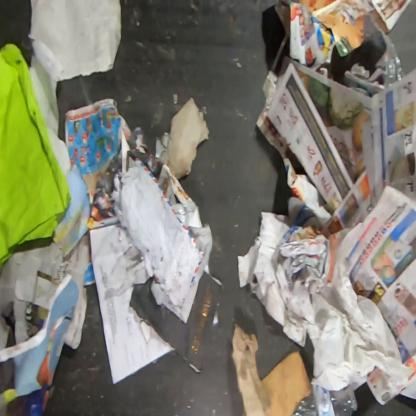cardboard: (230, 324, 312, 415)
rigid_plastic: (292, 382, 359, 415)
soft_plastic: (386, 34, 405, 87)
